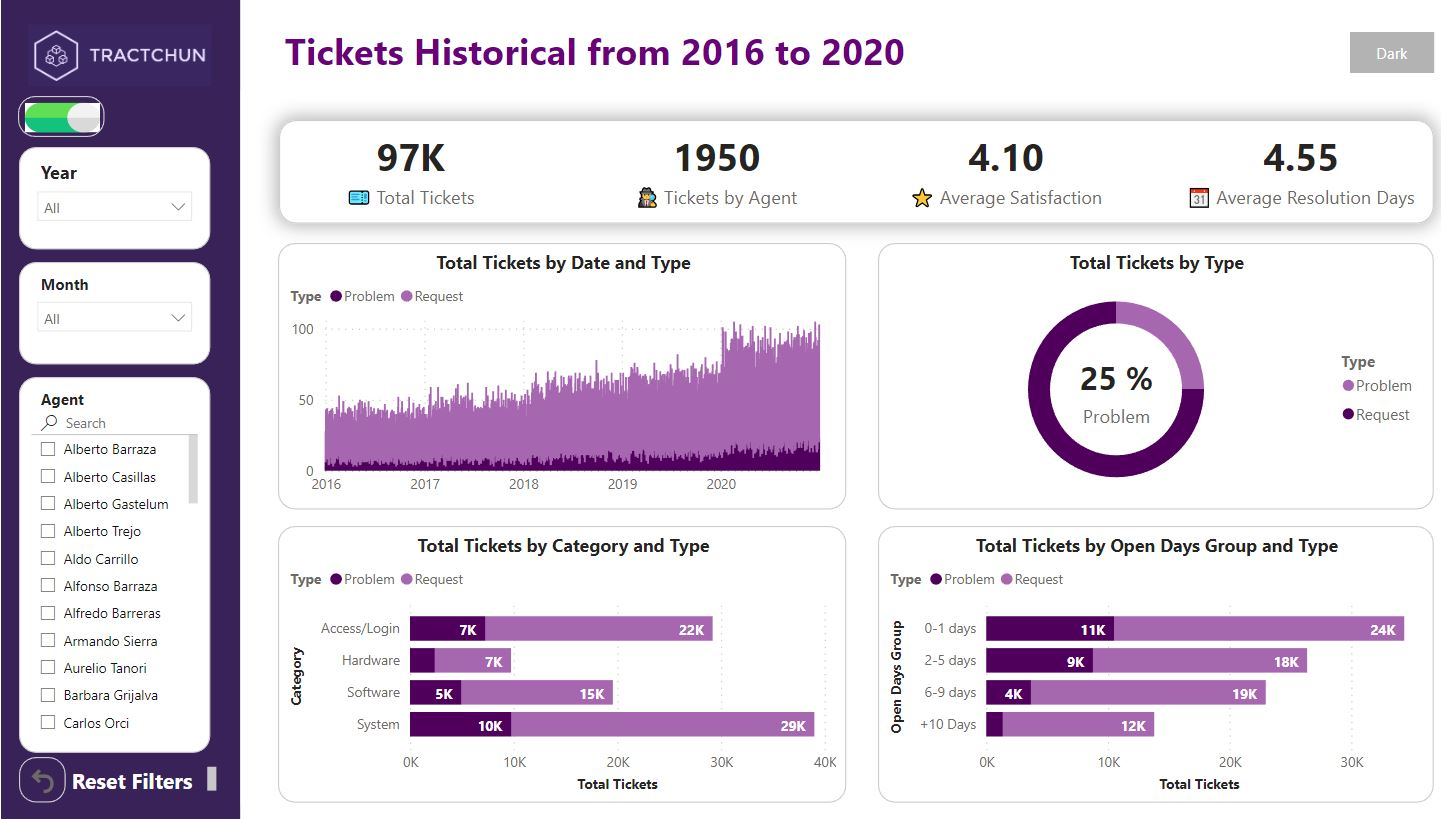

This screenshot's page, from the dashboard's own definition file:
{"tool":"powerbi","page":{"name":"Light Report","canvas":[1280,720],"ordinal":2},"visuals":[{"type":"shape","box":[0,0,210.1,720],"z":0},{"type":"donutChart","title":"Total Tickets by Type","fields":{"Y":["DAX Measures.Total Tickets"],"Category":["F_Tickets.Type"]},"box":[770.5,214.6,487.7,234.1],"z":0,"group":"g1"},{"type":"actionButton","box":[15.2,85.3,76.3,36.4],"z":1000,"group":"g1"},{"type":"slicer","fields":{"Values":["D_Calendar.Year"]},"box":[16,130.3,167.6,90.4],"z":1000},{"type":"columnChart","fields":{"Category":["D_Calendar.Date"],"Y":["DAX Measures.Total Tickets"],"Series":["F_Tickets.Type"]},"box":[243.8,214.6,499.2,234.1],"z":2000,"group":"g1"},{"type":"slicer","fields":{"Values":["D_Agents.Name"]},"box":[16,331.6,167.6,329.9],"z":3000},{"type":"barChart","fields":{"Y":["DAX Measures.Total Tickets"],"Category":["F_Tickets.Category"],"Series":["F_Tickets.Type"]},"box":[243.8,462.9,499.2,243],"z":3000,"group":"g1"},{"type":"slicer","fields":{"Values":["D_Calendar.Month Name Short"]},"box":[16,230.5,167.6,90.4],"z":4000},{"type":"barChart","fields":{"Y":["DAX Measures.Total Tickets"],"Category":["D_Days.Open Days Group"],"Series":["F_Tickets.Type"]},"box":[770.5,462.9,487.7,243],"z":4000,"group":"g1"},{"type":"card","fields":{"Values":["DAX Measures.Total Tickets"]},"box":[243.8,100.2,231.4,97.5],"z":5000},{"type":"card","fields":{"Values":["DAX Measures.% Problem"]},"box":[917.9,298.3,124.1,90.4],"z":5000,"group":"g1"},{"type":"card","fields":{"Values":["DAX Measures.Average Satisfaction"]},"box":[770.5,100.2,223.4,97.5],"z":6000},{"type":"card","fields":{"Values":["DAX Measures.Average Resolution Days"]},"box":[1025.9,100.2,232.3,97.5],"z":7000},{"type":"card","fields":{"Values":["DAX Measures.Tickets by Agent"]},"box":[512.5,100.2,230.5,97.5],"z":8000},{"type":"textbox","box":[243.8,17.7,571,63.8],"z":9000},{"type":"image","box":[16,17.7,177.3,63.8],"z":10000},{"type":"shape","box":[243.8,106.4,1014.4,91.3],"z":11000},{"type":"actionButton","title":"Button Reset Light Report","box":[16,665.9,40.8,39.9],"z":12000},{"type":"textbox","box":[56.7,669.5,136.6,32.8],"z":13000},{"type":"actionButton","title":"Light","box":[1184.6,29.3,73.6,36.4],"z":14000},{"type":"group","id":"g1","title":"Visuals 2","box":[15.2,85.3,1243,620.5],"z":16000}]}

Visuals, with their boxes in screenshot pixels (x1, y1, x2, y2), scaled from the page's 1280x720 canvas onto the 1441x819 screenshot:
shape: BBox(0, 0, 237, 818)
"Total Tickets by Type" donutChart: BBox(867, 244, 1416, 510)
actionButton: BBox(17, 97, 103, 138)
slicer - D_Calendar.Year: BBox(18, 148, 207, 251)
columnChart - D_Calendar.Date x DAX Measures.Total Tickets: BBox(274, 244, 836, 510)
slicer - D_Agents.Name: BBox(18, 377, 207, 752)
barChart - DAX Measures.Total Tickets x F_Tickets.Category: BBox(274, 527, 836, 803)
slicer - D_Calendar.Month Name Short: BBox(18, 262, 207, 365)
barChart - DAX Measures.Total Tickets x D_Days.Open Days Group: BBox(867, 527, 1416, 803)
card - DAX Measures.Total Tickets: BBox(274, 114, 535, 225)
card - DAX Measures.% Problem: BBox(1033, 339, 1173, 442)
card - DAX Measures.Average Satisfaction: BBox(867, 114, 1119, 225)
card - DAX Measures.Average Resolution Days: BBox(1155, 114, 1416, 225)
card - DAX Measures.Tickets by Agent: BBox(577, 114, 836, 225)
textbox: BBox(274, 20, 917, 93)
image: BBox(18, 20, 218, 93)
shape: BBox(274, 121, 1416, 225)
"Button Reset Light Report" actionButton: BBox(18, 757, 64, 803)
textbox: BBox(64, 762, 218, 799)
"Light" actionButton: BBox(1334, 33, 1416, 75)
"Visuals 2" group: BBox(17, 97, 1416, 803)
